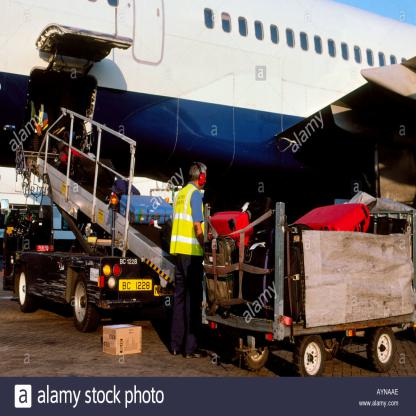baggagetruck: (3, 92, 190, 344)
